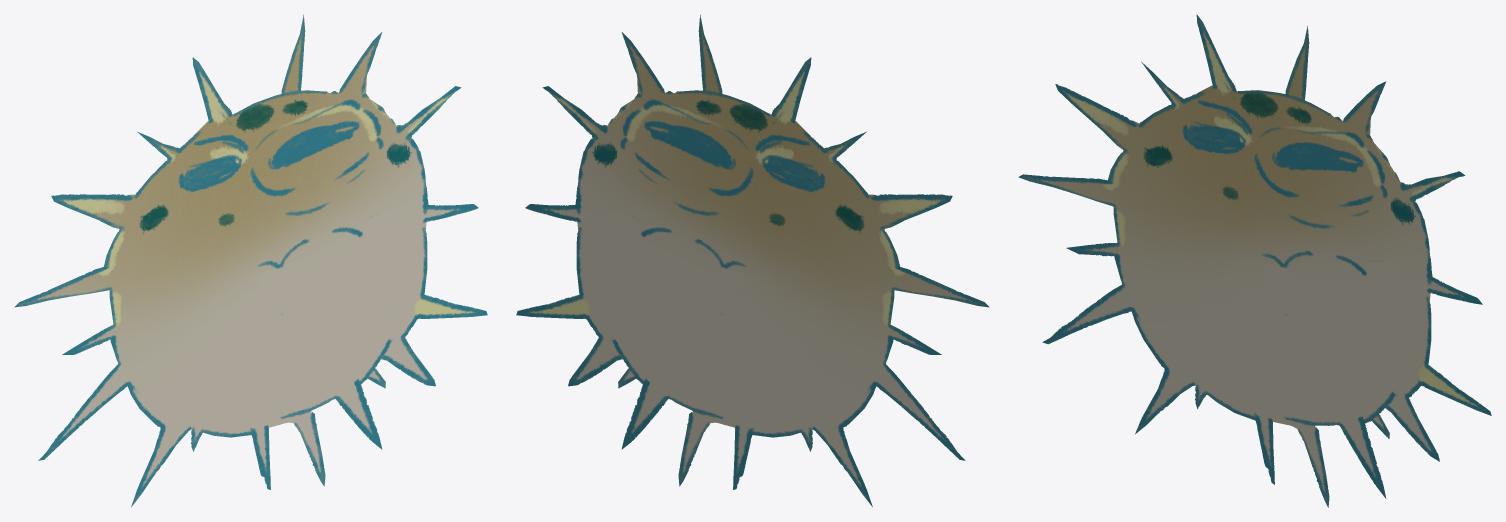
File: puffer_4.fbx
The picture shows the model from 3 angles, left to right: view 1: azimuth 30°, elevation 25°; view 2: azimuth 150°, elevation 25°; view 3: azimuth 330°, elevation 25°; orthographic projection.
Visible parts, largest first — view 1: mask31; view 2: mask31; view 3: mask31.
Part boxes in pixels (x1,y1,x2,y2): mask31: (14, 14, 487, 507); mask31: (516, 14, 989, 507); mask31: (1018, 14, 1491, 507).
Bounding box in the file's own units: 9.58 × 9.23 × 1.53e-07.
Materials: 1 (1 with a texture image).
